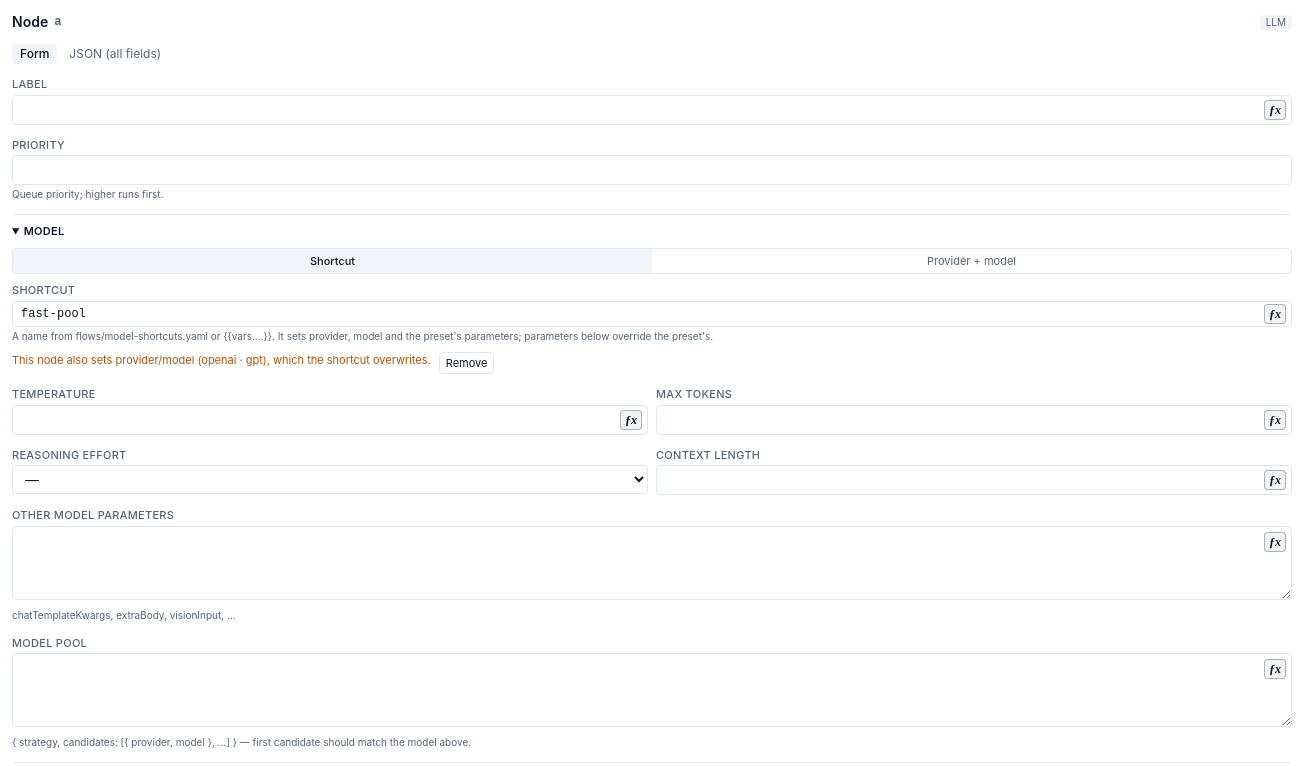
Test case: model source: shortcut OR provider + model › a node carrying both is flagged and can be cleaned up
Expected: the message shows "openai · gpt", [12,352,431,366]
What coordinates should you click on to do the following:
click the button "Remove"
I would click on:
 (467, 363)
Its box is [439,352,494,374].
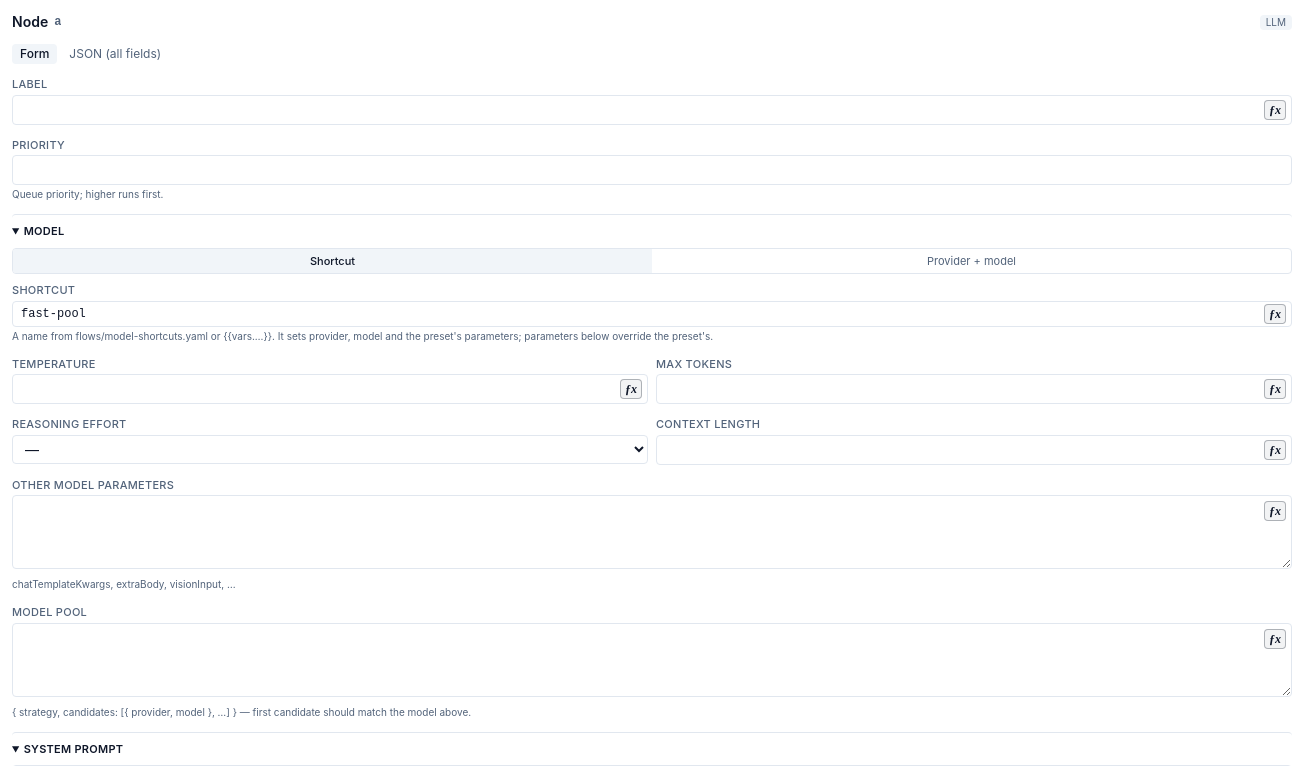
Result: the message is gone
